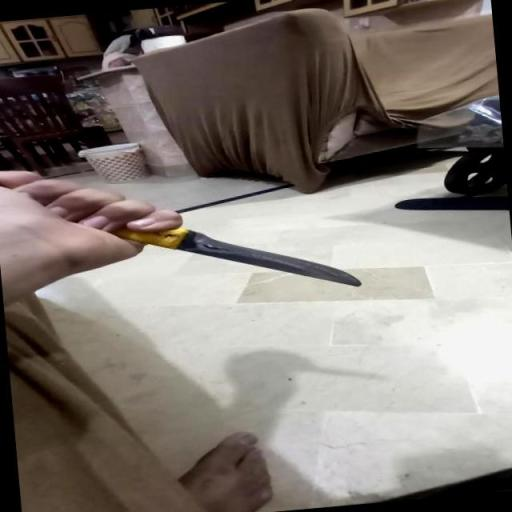knife: (16, 156, 367, 316)
